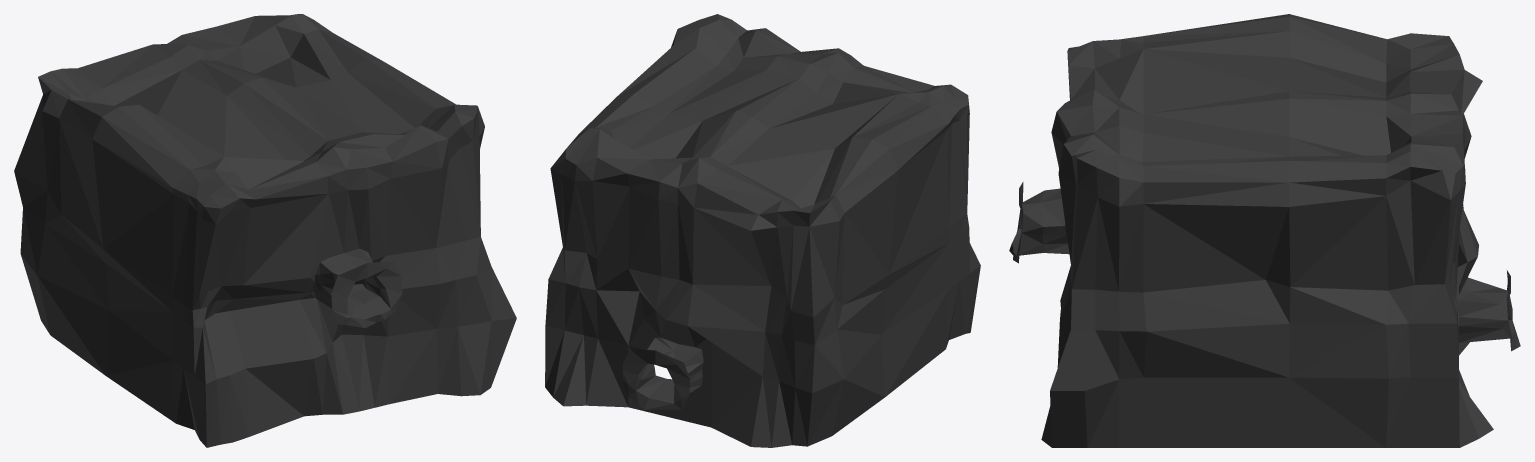
File: Cave_11A_LOD_2.fbx
3 views of the same model, side by side, from view 1: azimuth 30°, elevation 25°; view 2: azimuth 150°, elevation 25°; view 3: azimuth 270°, elevation 25° (orthographic). The views are drawn at different scales.
Parts seen in each view (by area): view 1: polySurface605; view 2: polySurface605; view 3: polySurface605.
Boxes of the visible parts, x1,y1,x2,y2 form: polySurface605: (14, 14, 516, 447); polySurface605: (545, 14, 980, 447); polySurface605: (1009, 14, 1520, 447).
Bounding box in the file's own units: 41.01 × 33.56 × 52.73.
